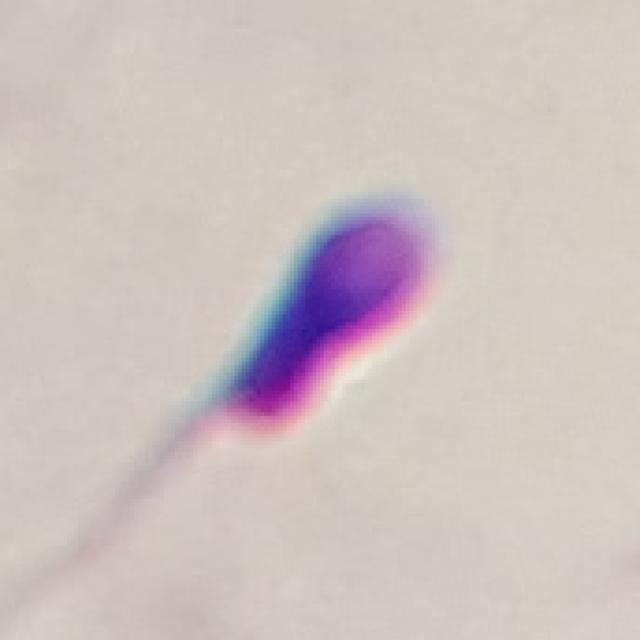abnormal sperm: (55, 173, 501, 581)
